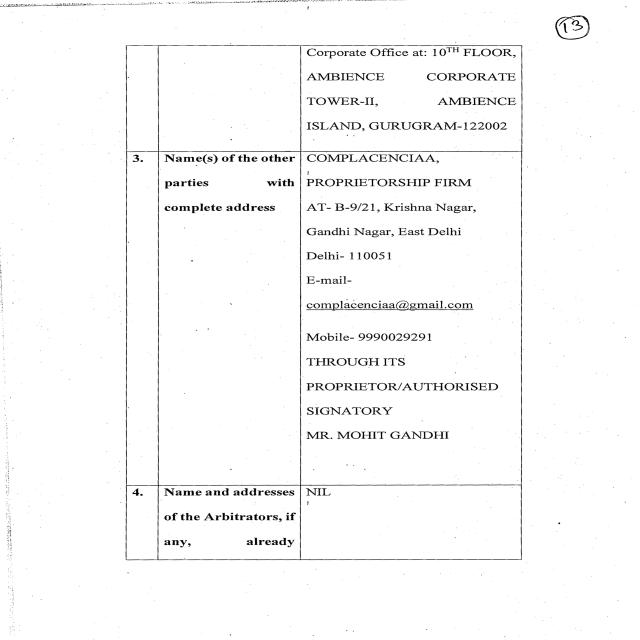page-number: (526, 2, 636, 153)
